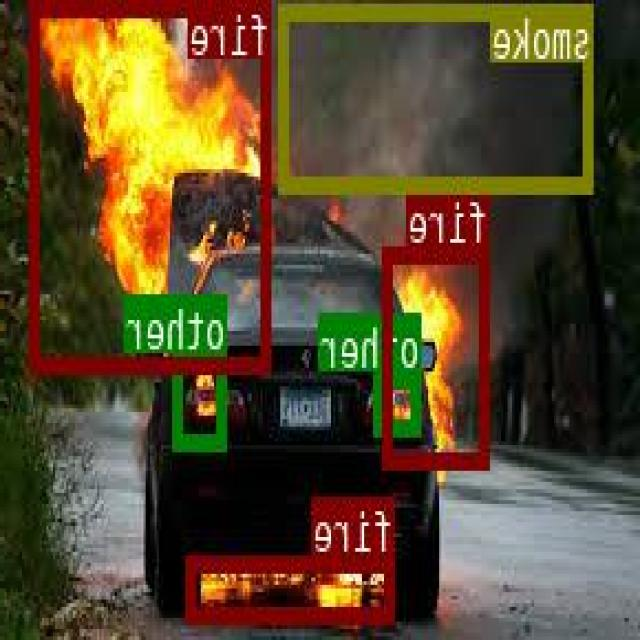fire: (34, 0, 272, 371), (384, 246, 491, 466), (190, 552, 396, 621)
other: (175, 352, 228, 447), (377, 369, 422, 433)
smoke: (282, 1, 596, 188)
